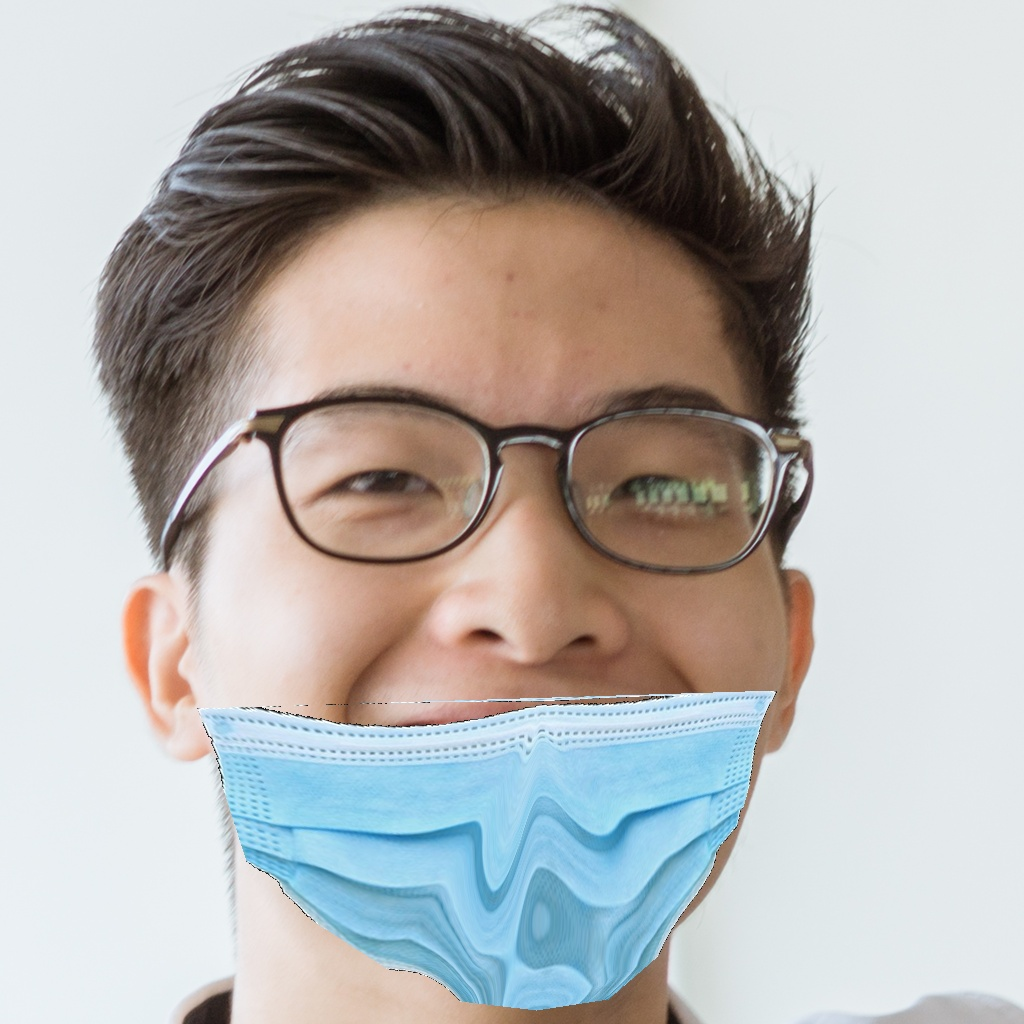mask_weared_incorrect: (220, 418, 779, 1010)
